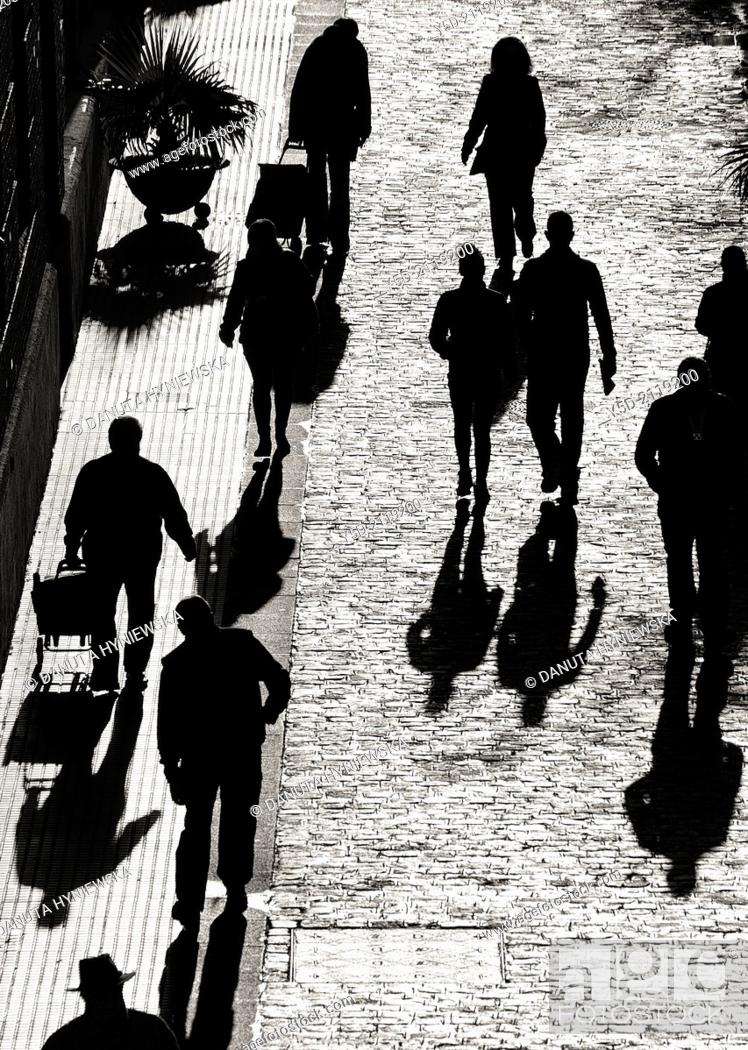person: (155, 597, 296, 917), (61, 415, 197, 696), (511, 215, 623, 501), (219, 217, 350, 461), (639, 355, 748, 622), (422, 249, 525, 506), (457, 36, 557, 262), (281, 17, 378, 230), (39, 949, 194, 1050), (695, 245, 748, 371)
